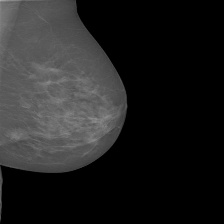Mass_1: (195, 127, 222, 145)
